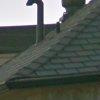Chimney: (24, 1, 64, 42)
